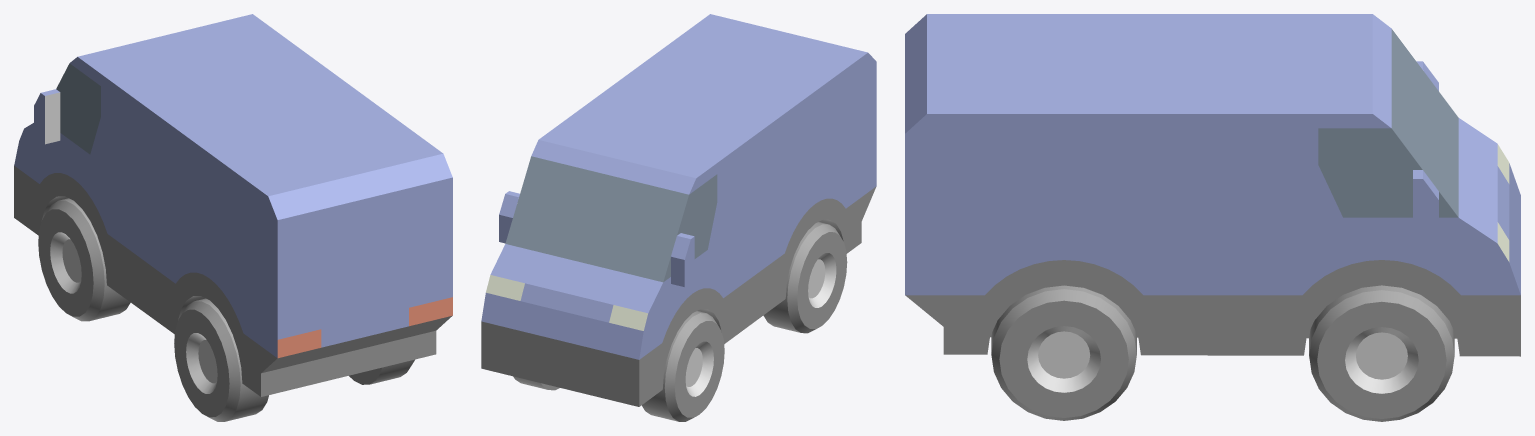
Rendered from carVan.gltf.
3 renders of one model, left to right at view 1: azimuth 30°, elevation 25°; view 2: azimuth 150°, elevation 25°; view 3: azimuth 270°, elevation 25°, orthographic. The views are drawn at different scales.
Parts seen in each view (by area): view 1: body 15, wheelBackLeft 15, wheelFrontLeft 15, wheelBackRight 15; view 2: body 15, wheelBackLeft 15, wheelFrontLeft 15; view 3: body 15, wheelFrontRight 15, wheelBackRight 15.
Part boxes in pixels (box(x1,y1,x2,y2)): body 15: box(14, 14, 452, 396); wheelBackLeft 15: box(174, 298, 268, 421); wheelFrontLeft 15: box(38, 198, 130, 321); wheelBackRight 15: box(349, 359, 414, 384); body 15: box(481, 14, 876, 406); wheelBackLeft 15: box(763, 222, 847, 333); wheelFrontLeft 15: box(642, 311, 724, 421); body 15: box(905, 14, 1520, 356); wheelFrontRight 15: box(1309, 285, 1454, 421); wheelBackRight 15: box(991, 285, 1136, 420).
Size of the model in its own units: 0.535 by 0.6566 by 1.18.
